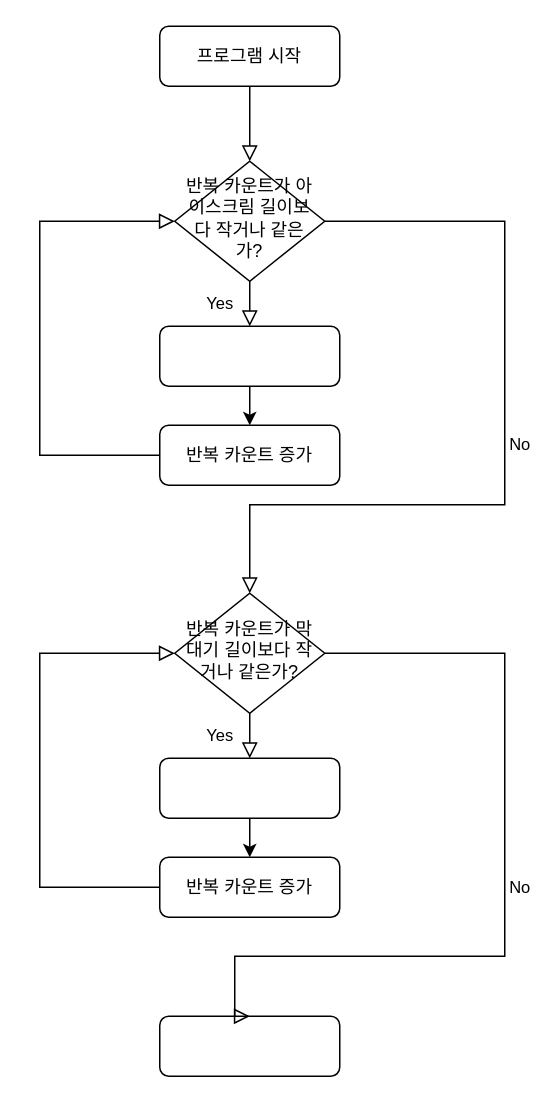
Image size: 557x1103. Some labels were removed from this diagram. The shapes that lost their labels are listed below. From the top down, each one's centre as x and y in pixels, then its label:
pixel 249 355: 아이스크림 한 줄 출력
pixel 249 787: 막대기 한 줄 출력
pixel 249 1045: 프로그램 종료
